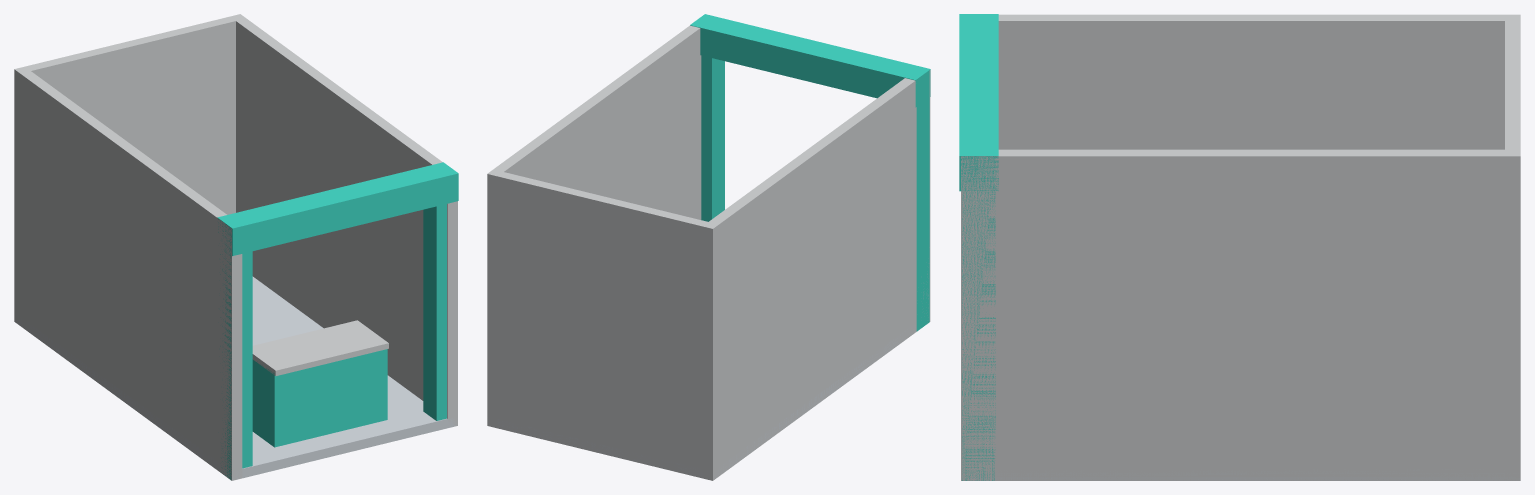
The picture shows the model from 3 angles, left to right: view 1: azimuth 30°, elevation 25°; view 2: azimuth 150°, elevation 25°; view 3: azimuth 270°, elevation 25°; orthographic projection. The views are drawn at different scales.
Parts seen in each view (by area): view 1: Exhibition Booth Concept; view 2: Exhibition Booth Concept; view 3: Exhibition Booth Concept.
Part boxes in pixels (left/top/right/bottom): Exhibition Booth Concept: left=14, top=14, right=458, bottom=480; Exhibition Booth Concept: left=487, top=14, right=930, bottom=480; Exhibition Booth Concept: left=959, top=14, right=1520, bottom=480.
Size of the model in its own units: 3 by 3.2 by 5.02.
